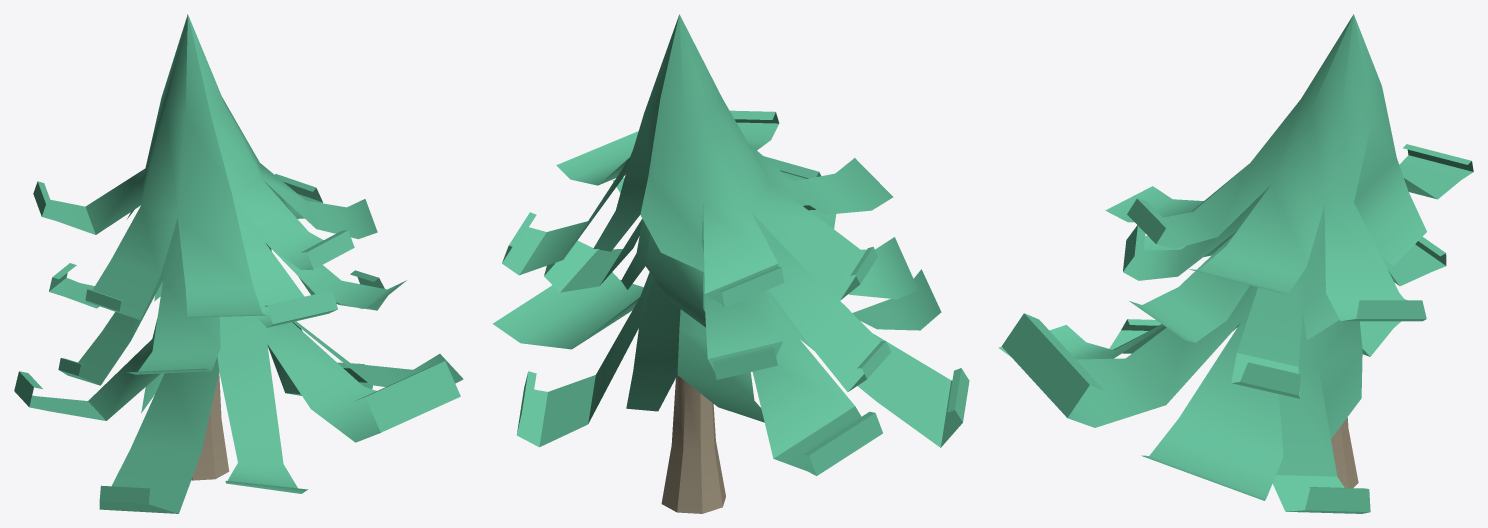
File: PacmanTree.fbx
The picture shows the model from 3 angles, left to right: view 1: azimuth 30°, elevation 25°; view 2: azimuth 150°, elevation 25°; view 3: azimuth 270°, elevation 25°; orthographic projection. The views are drawn at different scales.
Parts seen in each view (by area): view 1: PacmanTree; view 2: PacmanTree; view 3: PacmanTree.
Boxes of the visible parts, <box> form: PacmanTree: <box>14,14,463,513</box>; PacmanTree: <box>492,14,969,513</box>; PacmanTree: <box>998,14,1473,513</box>.
Size of the model in its own units: 745 by 832 by 764.
